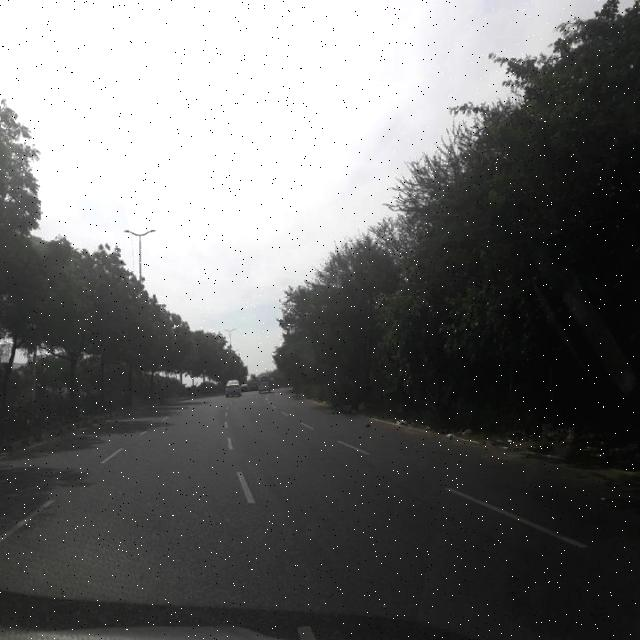D00: (363, 462, 532, 558)
